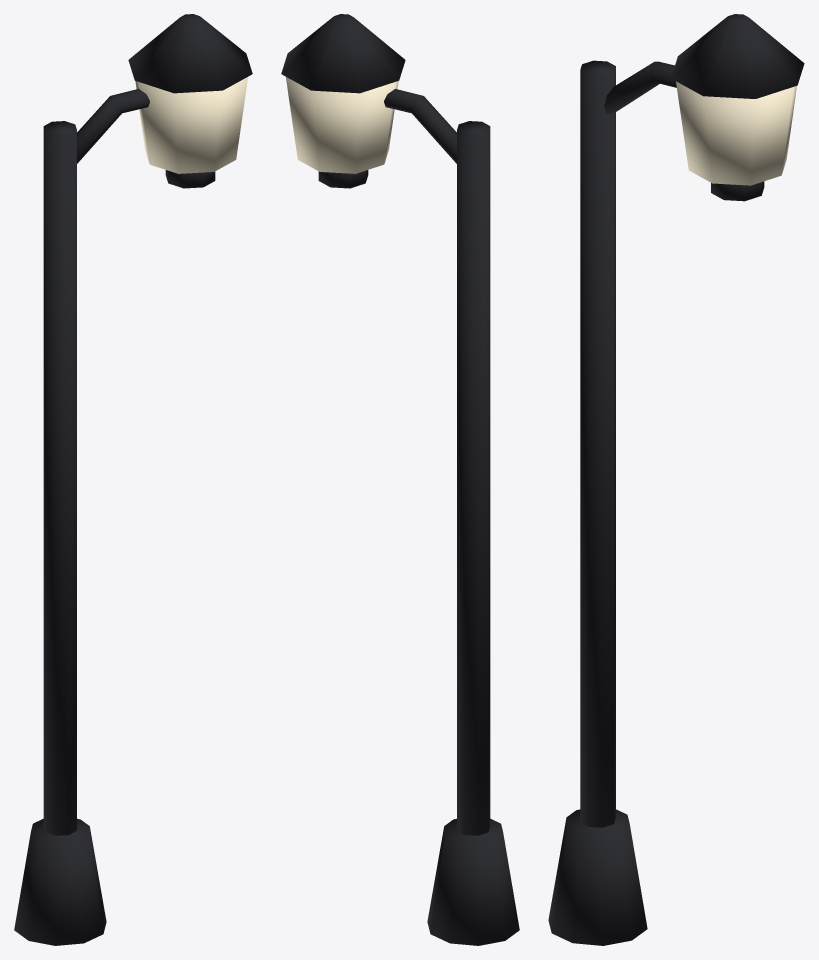
File: lamp_post.gltf
The picture shows the model from 3 angles, left to right: view 1: azimuth 30°, elevation 25°; view 2: azimuth 150°, elevation 25°; view 3: azimuth 330°, elevation 25°; orthographic projection. The views are drawn at different scales.
Parts seen in each view (by area): view 1: lamp_post_mesh; view 2: lamp_post_mesh; view 3: lamp_post_mesh.
Part boxes in pixels (x1,y1,x2,y2): lamp_post_mesh: (14,14,252,945); lamp_post_mesh: (281,14,519,945); lamp_post_mesh: (548,14,804,945).
Size of what is drawn, in the model's own units: 1.21 by 4.5 by 0.6.
